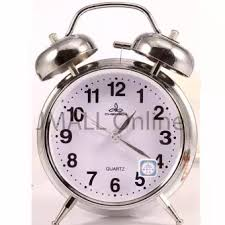alarm_clock: (33, 2, 198, 223)
